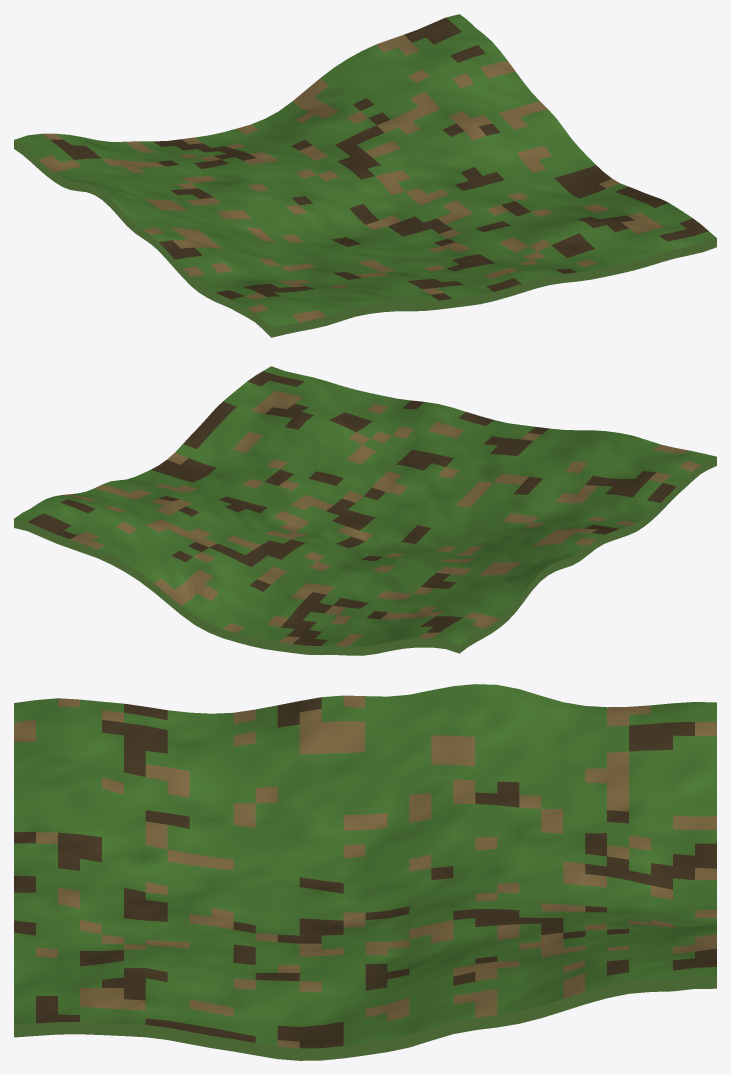
Rendered from chunk_0_6_lod1.glb.
3 views of the same model, one above another, from view 1: azimuth 30°, elevation 25°; view 2: azimuth 150°, elevation 25°; view 3: azimuth 270°, elevation 25° (orthographic). The views are drawn at different scales.
Parts seen in each view (by area): view 1: Surface_Grass, Surface_Dirt, Surface_Mud, Skirt; view 2: Surface_Grass, Surface_Dirt, Surface_Mud, Skirt; view 3: Surface_Grass, Surface_Dirt, Surface_Mud, Skirt.
Part boxes in pixels (x1,y1,x2,y2): Surface_Grass: [14, 14, 716, 328]; Surface_Dirt: [38, 34, 664, 322]; Surface_Mud: [50, 17, 708, 300]; Skirt: [14, 140, 716, 337]; Surface_Grass: [14, 366, 716, 646]; Surface_Dirt: [63, 390, 700, 646]; Surface_Mud: [28, 371, 676, 645]; Skirt: [14, 457, 716, 655]; Surface_Grass: [14, 684, 716, 1046]; Surface_Dirt: [14, 695, 716, 1048]; Surface_Mud: [14, 697, 716, 1048]; Skirt: [14, 976, 716, 1060].
Bounding box in the file's own units: 256 × 38.19 × 256.
